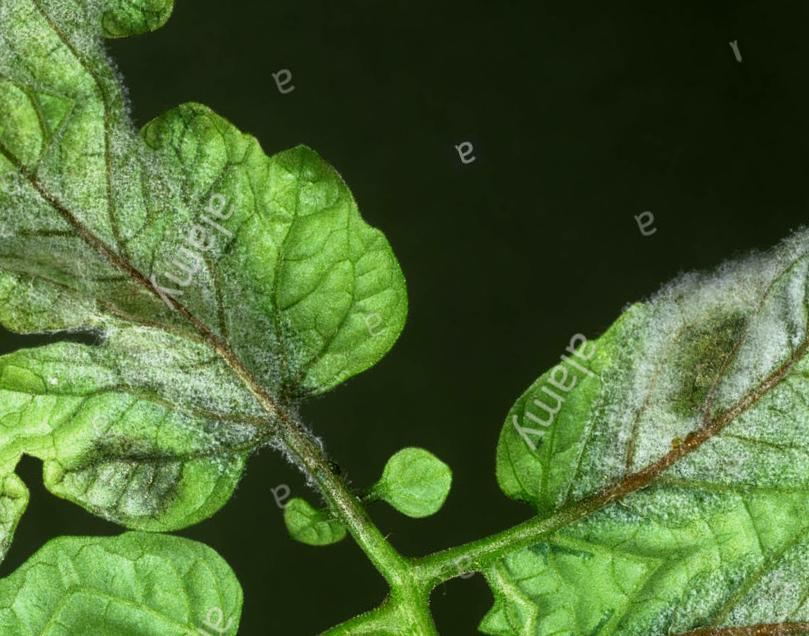Tomato leaf late blight: (0, 15, 458, 566), (325, 209, 809, 636), (48, 423, 393, 636)
